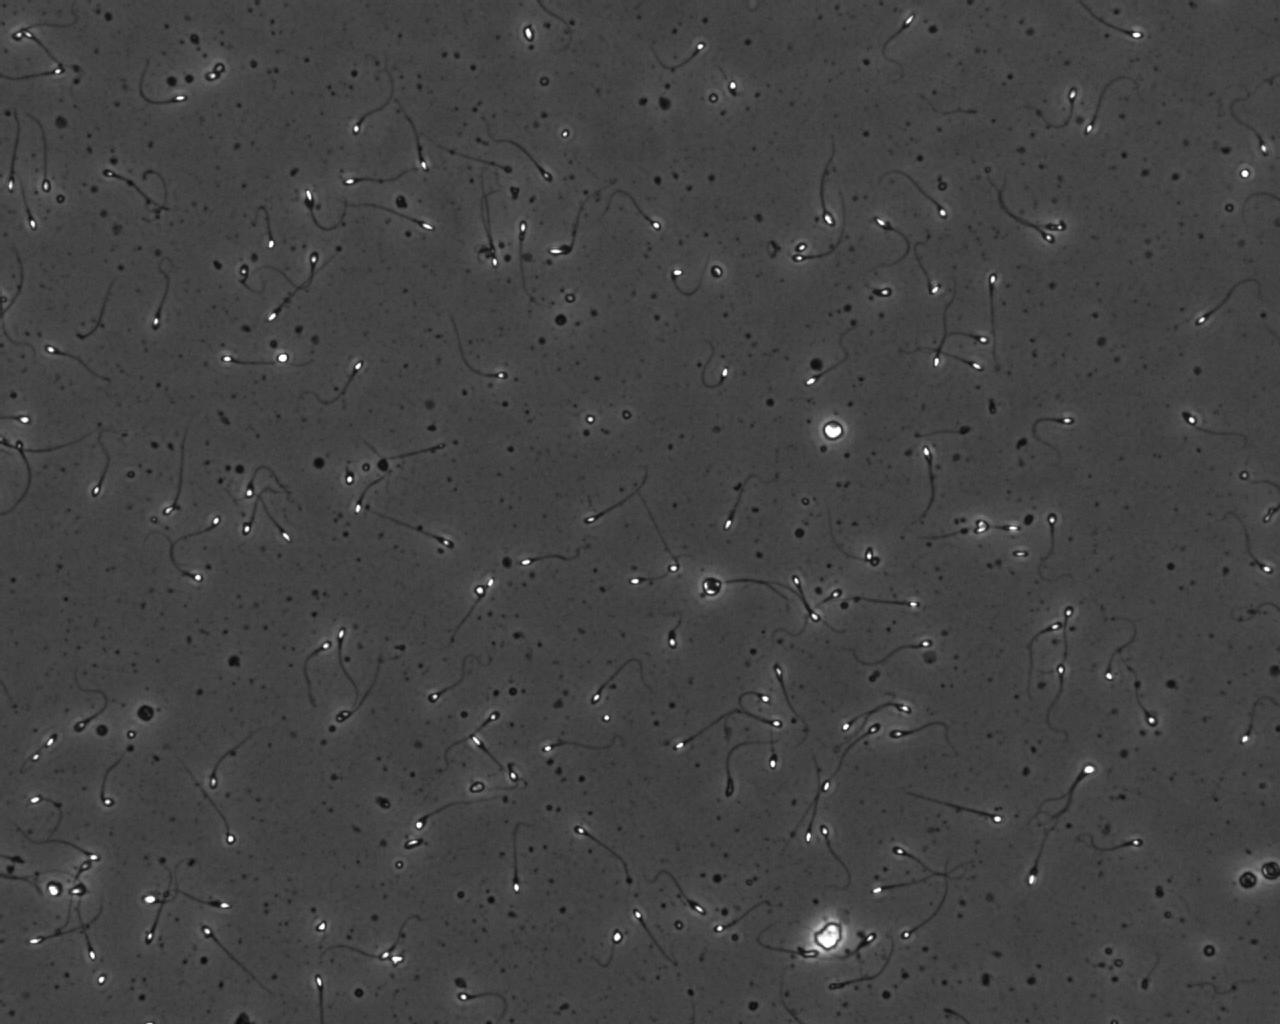cell: (818, 415, 848, 446), (1234, 867, 1261, 894), (133, 700, 159, 726), (1257, 857, 1280, 885)
